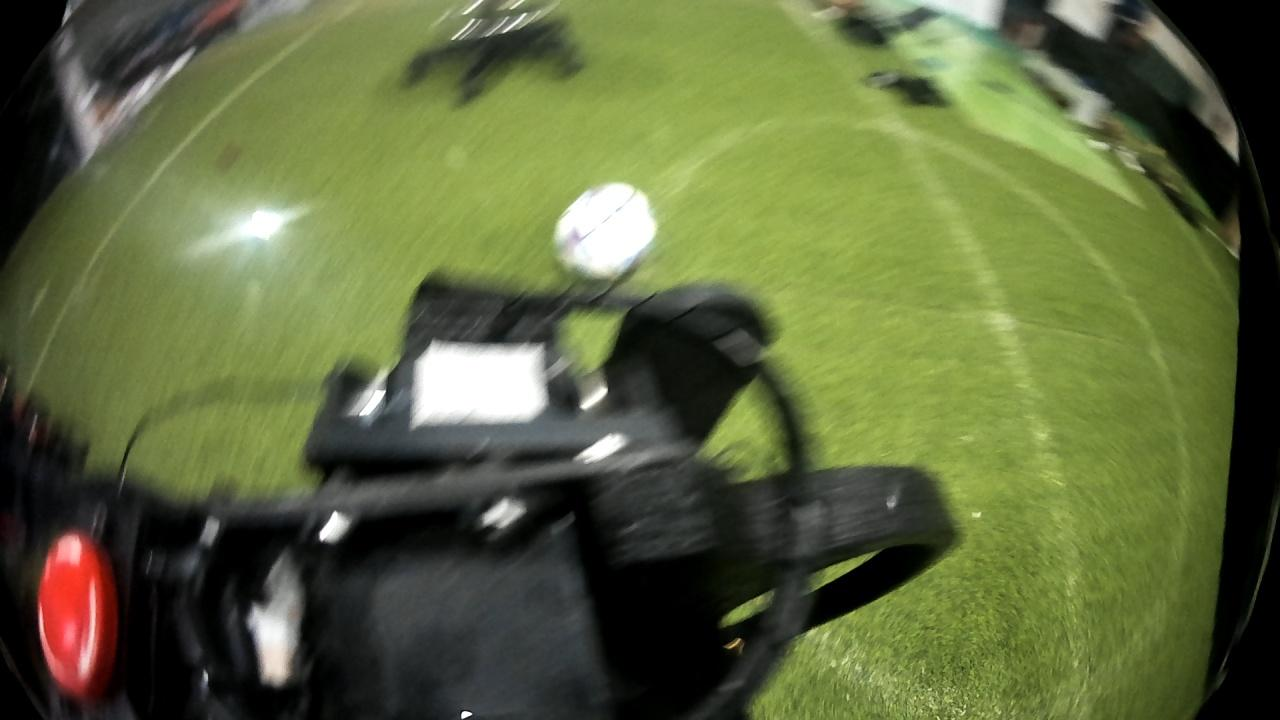ball: (556, 179, 655, 289)
